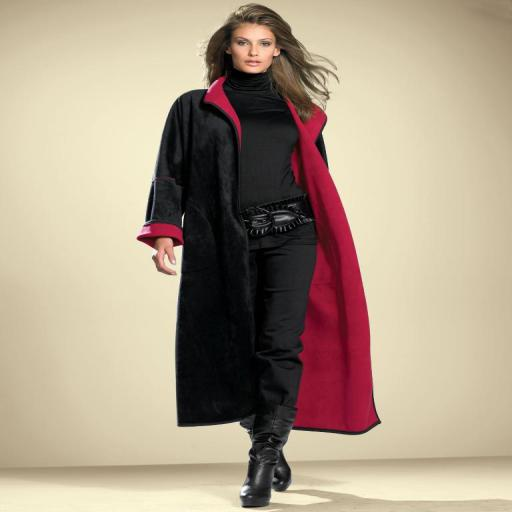Person: (134, 7, 370, 503)
boots: (249, 411, 293, 504)
no_gloves: (162, 234, 197, 280)
no_goggle: (232, 36, 278, 54)
no_helmet: (225, 6, 287, 34)
none: (194, 78, 310, 231)
